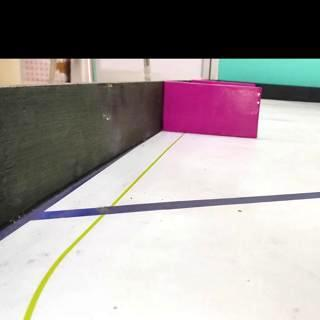xparking: (172, 84, 256, 136)
